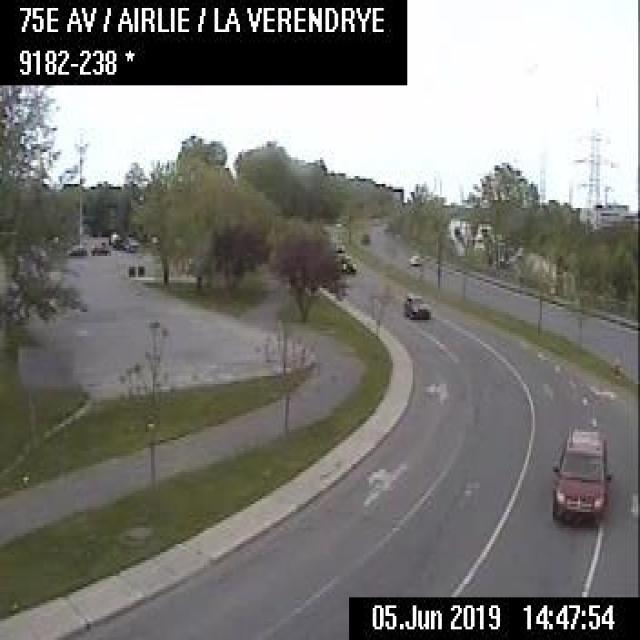vehicle: (549, 424, 609, 528), (402, 291, 430, 320), (89, 241, 110, 255), (338, 257, 356, 273), (406, 250, 422, 265), (67, 243, 86, 255), (333, 240, 345, 251)
